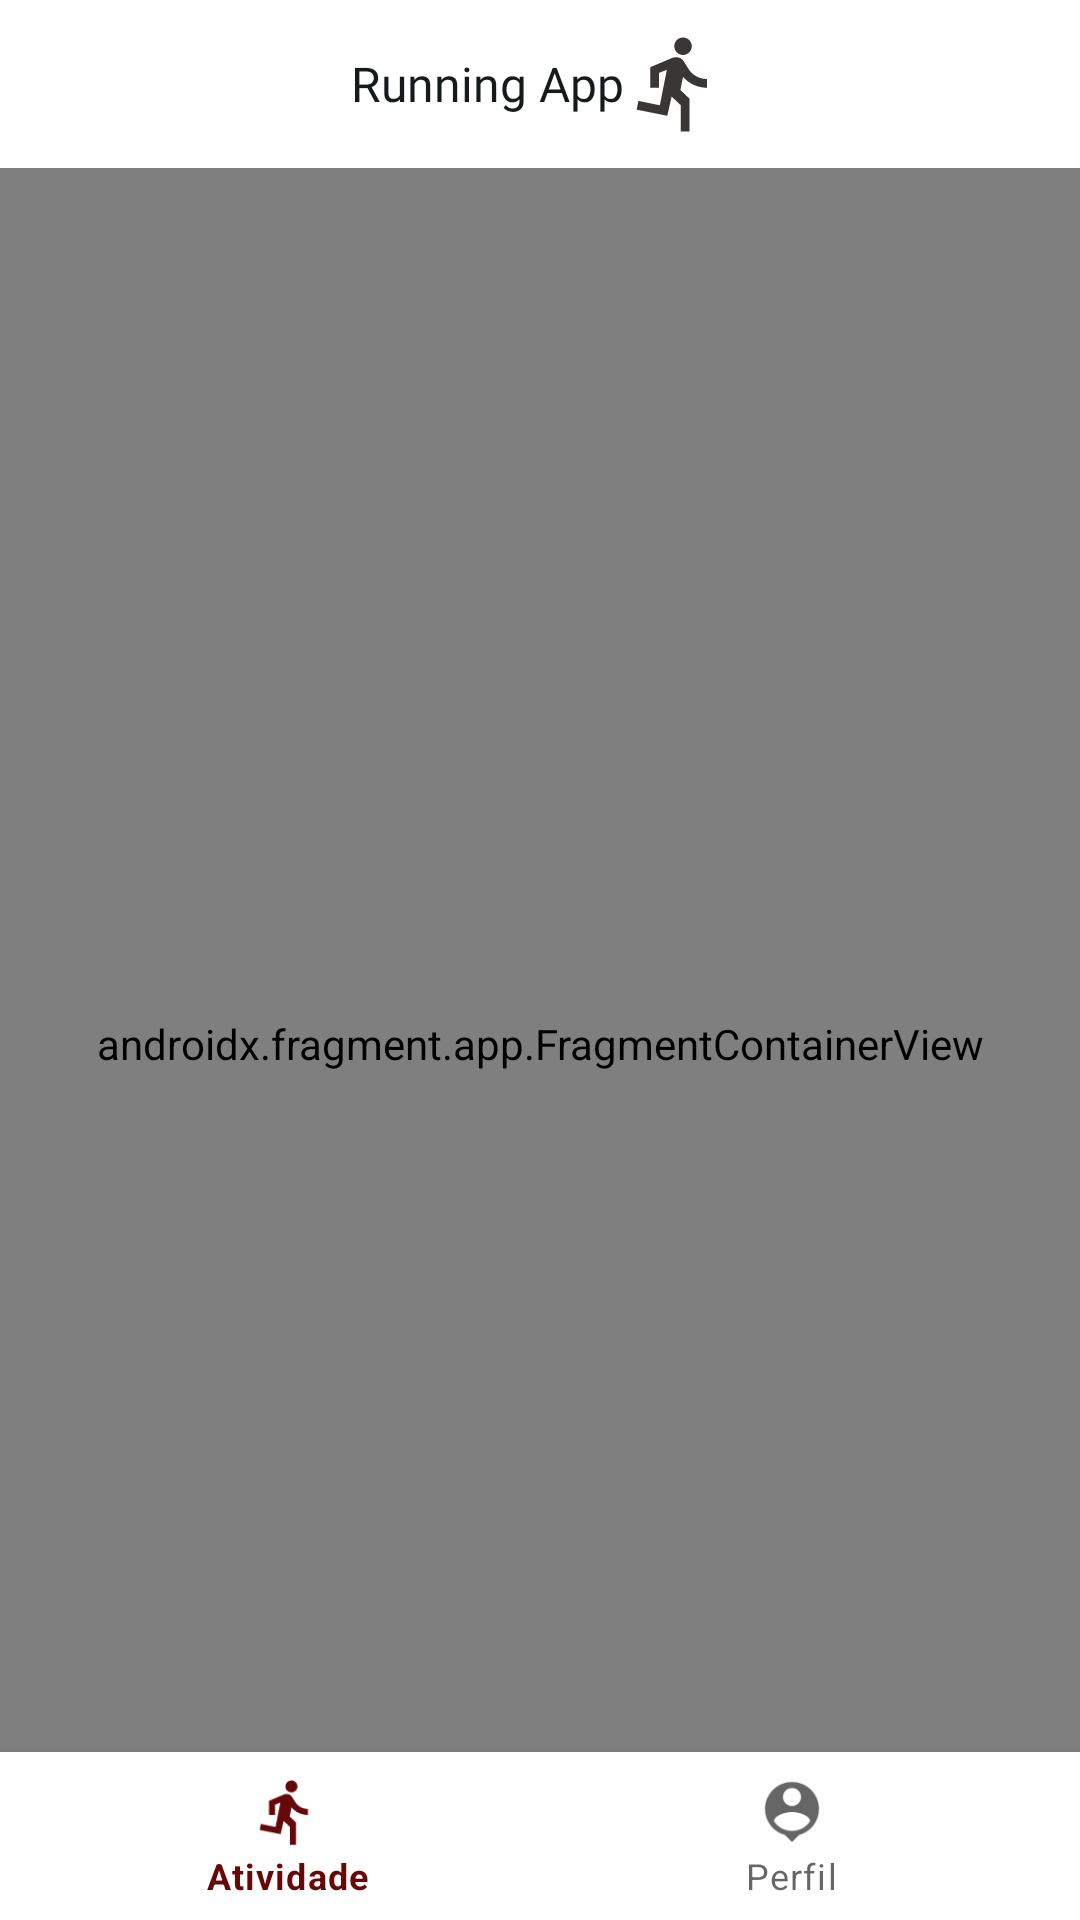

Named icons in this screenshot (1080px x 1920px) and their bounding boxes, detection(x1, y1, x2, y2):
directions run: detection(636, 37, 707, 132)
